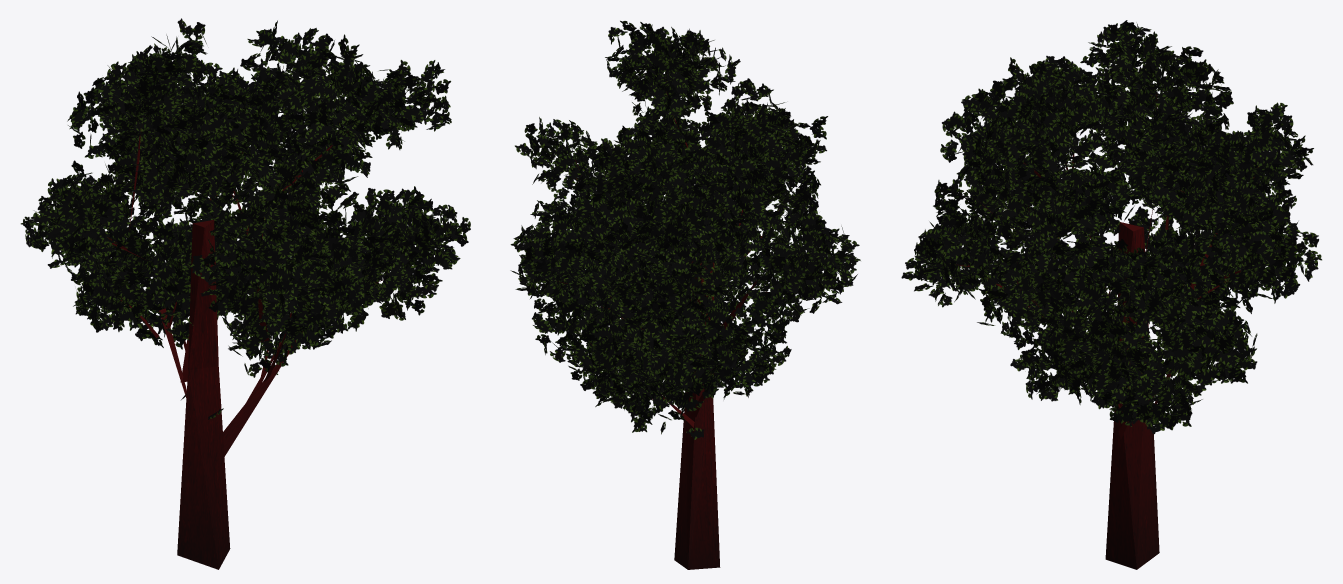
File: broadleaf_giant_v02_LOD1.glb
The picture shows the model from 3 angles, left to right: view 1: azimuth 30°, elevation 25°; view 2: azimuth 150°, elevation 25°; view 3: azimuth 270°, elevation 25°; orthographic projection. The views are drawn at different scales.
Parts seen in each view (by area): view 1: broadleaf_giant_v02_LOD1; view 2: broadleaf_giant_v02_LOD1; view 3: broadleaf_giant_v02_LOD1.
Boxes of the visible parts, x1=… form: broadleaf_giant_v02_LOD1: x1=20, y1=18, x2=470, y2=569; broadleaf_giant_v02_LOD1: x1=510, y1=20, x2=860, y2=569; broadleaf_giant_v02_LOD1: x1=901, y1=20, x2=1321, y2=569.
Bounding box in the file's own units: 30.6 × 38.68 × 28.83.
2 materials, 2 textured.
